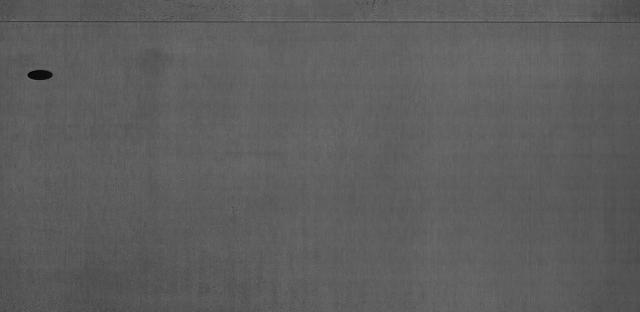punching_hole: (24, 66, 60, 84)
welding_line: (4, 14, 640, 31)
